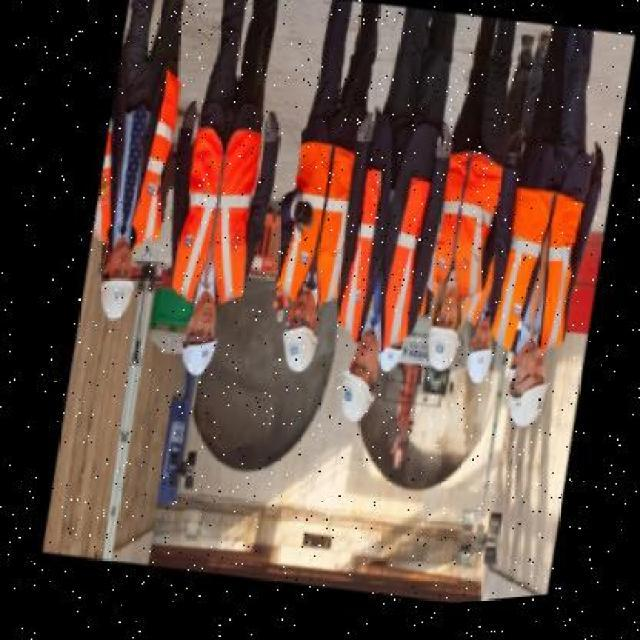helmet: (491, 382, 551, 450), (323, 363, 378, 429), (268, 321, 320, 379), (411, 323, 461, 380), (88, 274, 133, 320), (169, 334, 213, 380)
vest: (153, 111, 273, 313), (328, 162, 445, 362), (80, 43, 194, 247), (406, 136, 516, 314), (259, 123, 357, 313), (481, 188, 587, 362)
